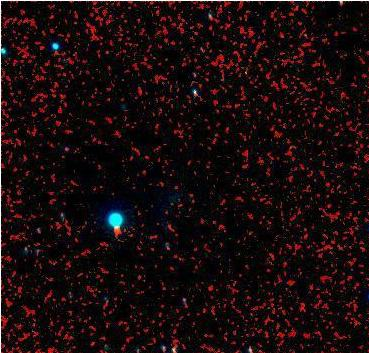star: (102, 216, 132, 246)
